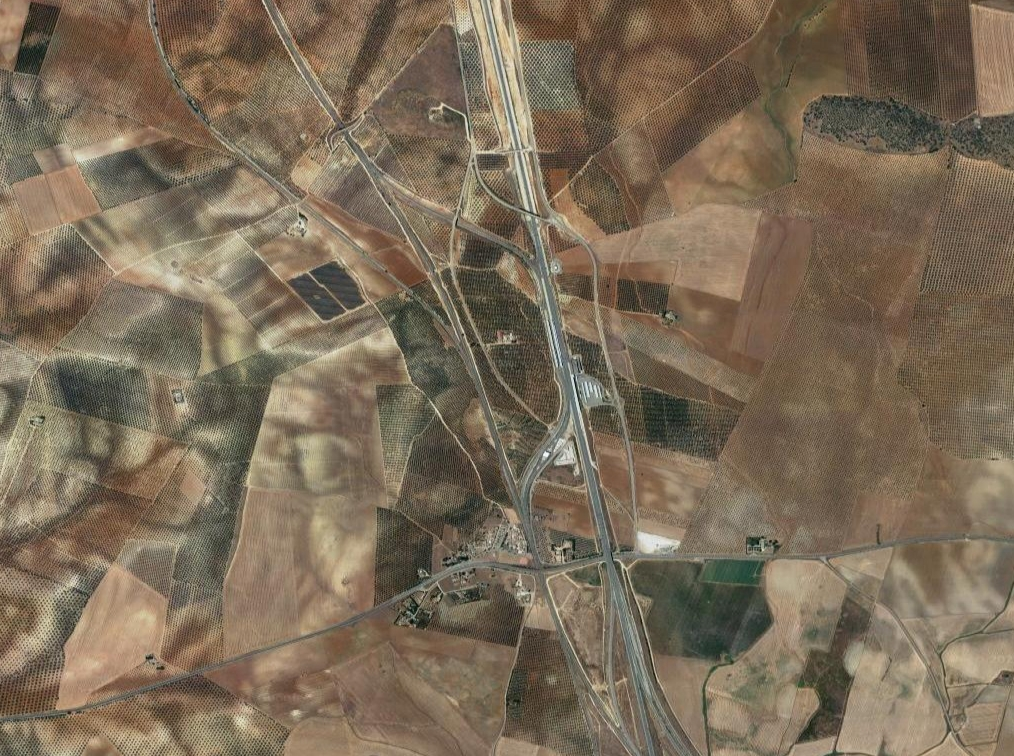motorway: (310, 201, 509, 451), (263, 1, 396, 201), (138, 2, 262, 170), (498, 449, 575, 681), (574, 449, 649, 680), (526, 220, 601, 450), (470, 1, 547, 221), (650, 533, 1014, 572), (156, 618, 350, 687), (348, 552, 498, 624), (561, 681, 690, 756), (1, 677, 156, 732)
